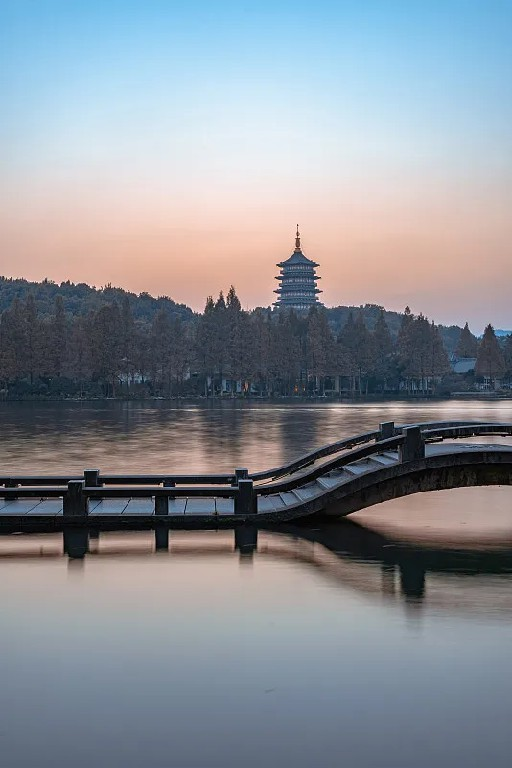Leifeng: (274, 223, 322, 314)
